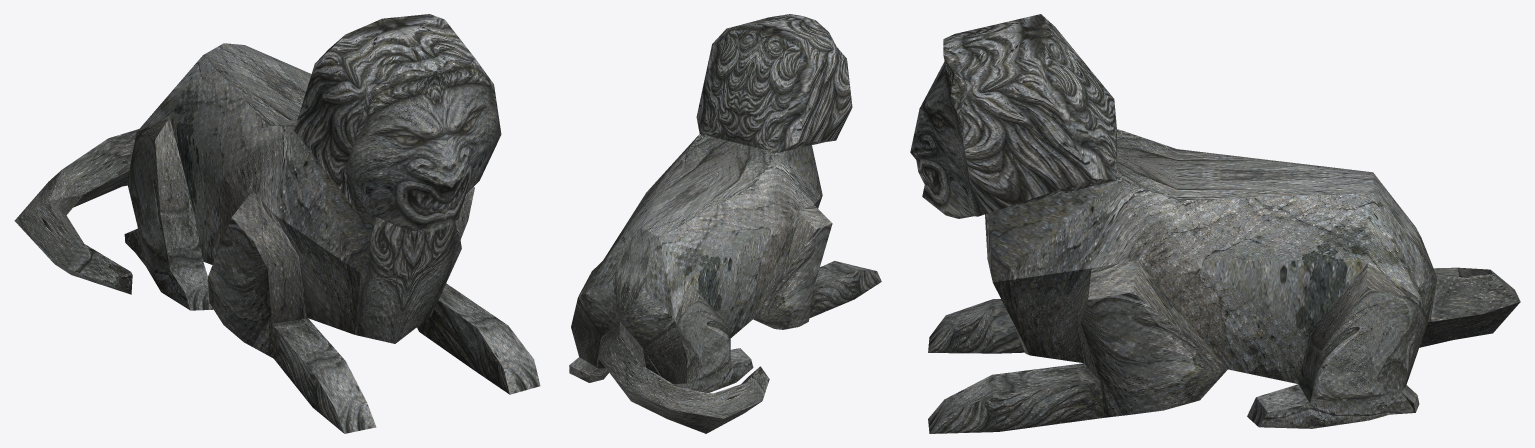
File: mm9_deco_lionstatue.glb
The picture shows the model from 3 angles, left to right: view 1: azimuth 30°, elevation 25°; view 2: azimuth 150°, elevation 25°; view 3: azimuth 270°, elevation 25°; orthographic projection. The views are drawn at different scales.
Parts seen in each view (by area): view 1: Lionstatue; view 2: Lionstatue; view 3: Lionstatue.
Part boxes in pixels (x1,y1,x2,y2): Lionstatue: (14, 14, 540, 433); Lionstatue: (569, 14, 881, 433); Lionstatue: (910, 14, 1520, 433).
Size of the model in its own units: 1.57 by 1.91 by 2.99.
Materials: 1 (1 with a texture image).
